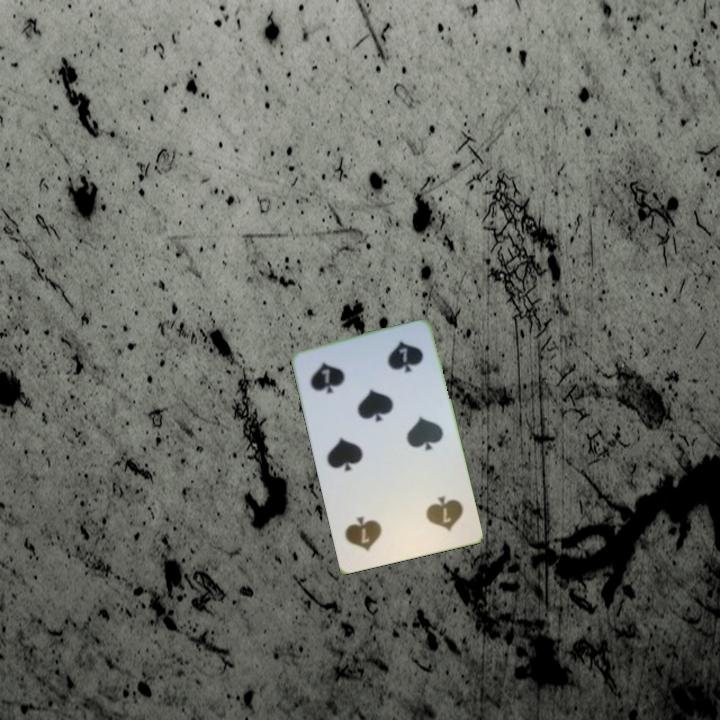s_7.png: (395, 478, 472, 549), (300, 343, 378, 413)
